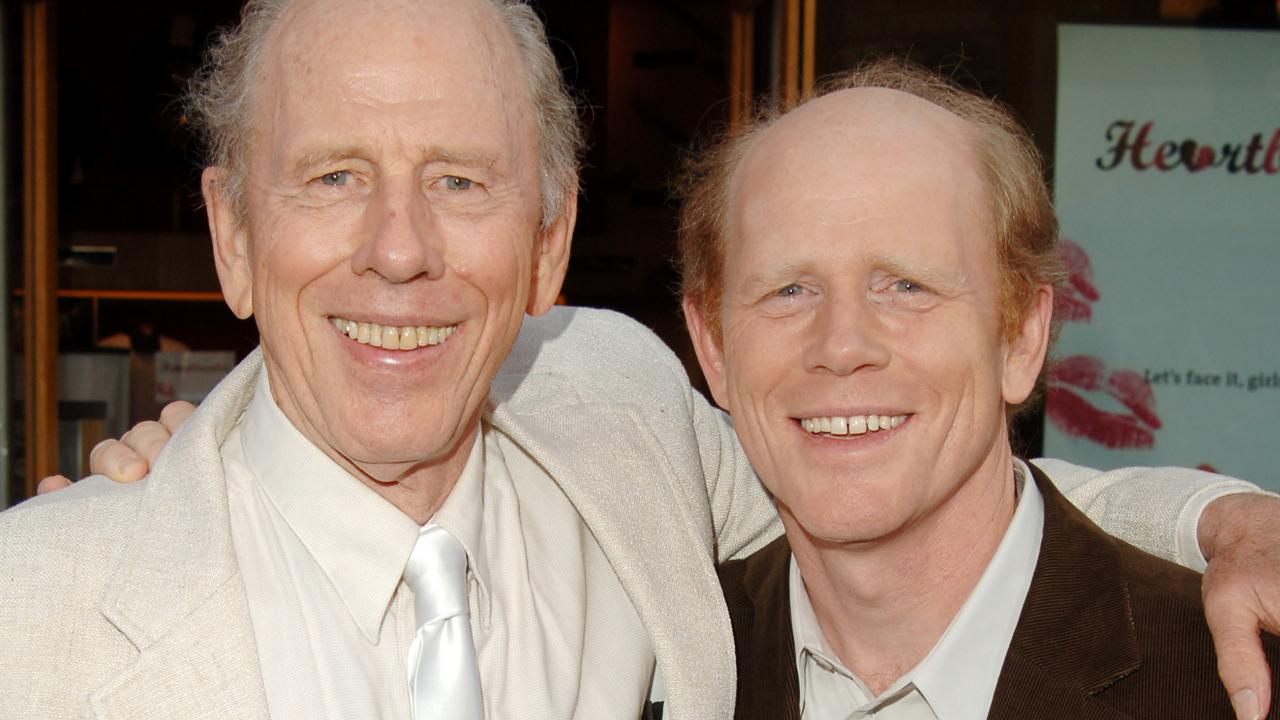bad: (241, 99, 562, 420), (706, 231, 973, 498)
